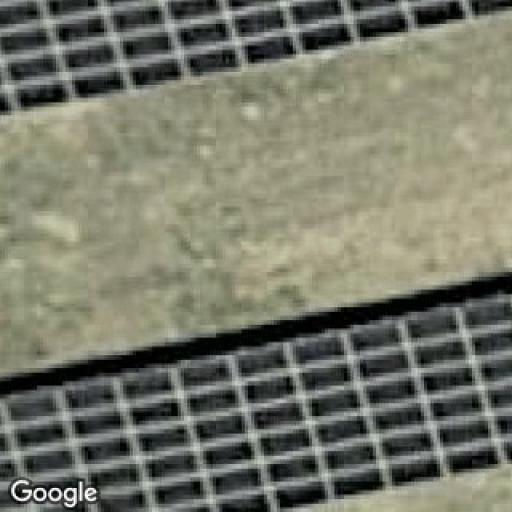solar-panel: (0, 283, 512, 512), (0, 0, 512, 128)
